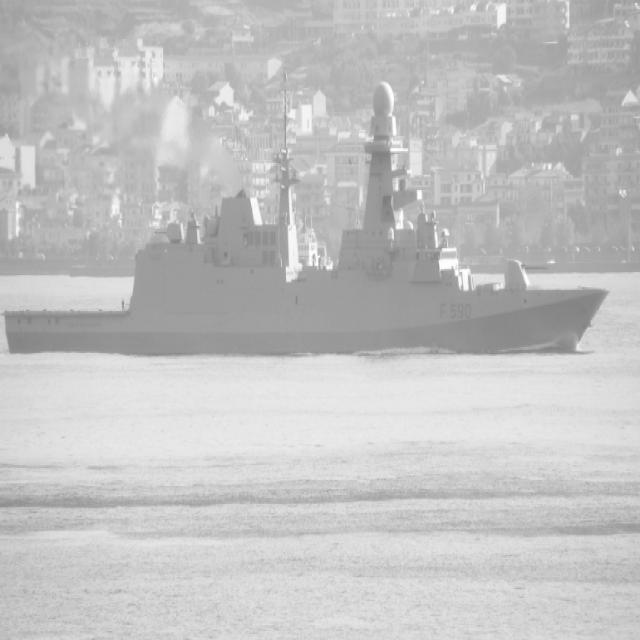Fragata: (2, 89, 617, 363)
